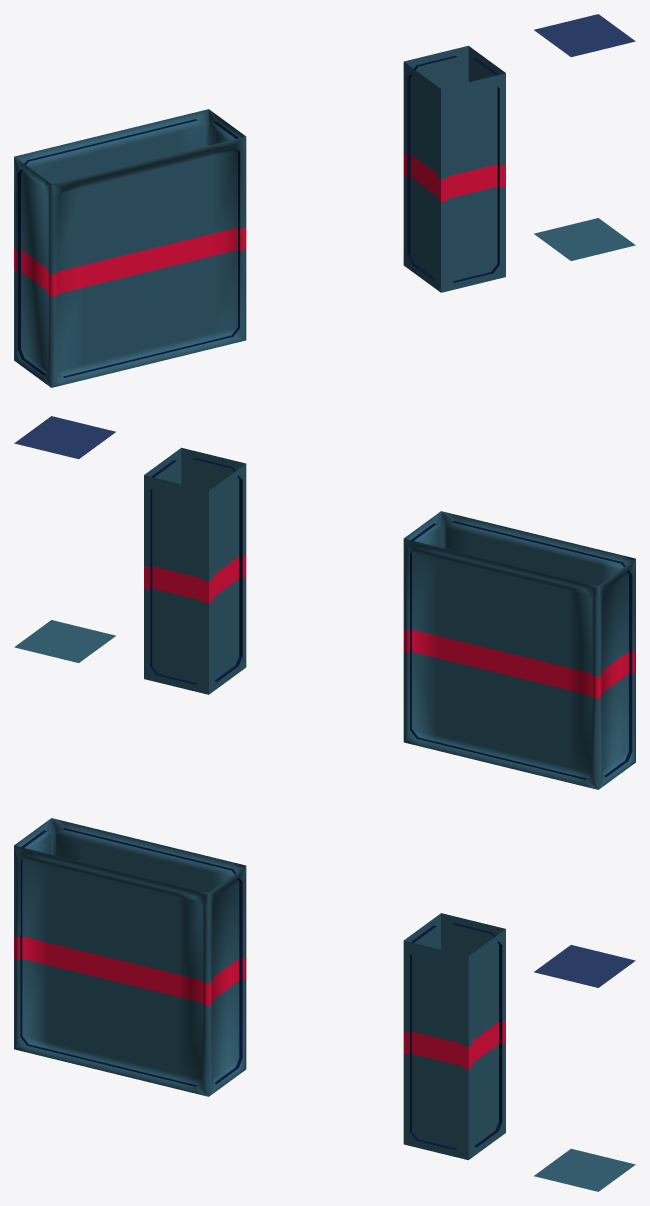
Rendered from level_1.glb.
3 views of the same model, one above another, from view 1: azimuth 30°, elevation 25°; view 2: azimuth 150°, elevation 25°; view 3: azimuth 330°, elevation 25° (orthographic).
Visible parts, largest first — view 1: Wall_3x1, Wall, Floor; view 2: Wall_3x1, Wall, Floor; view 3: Wall_3x1, Wall, Floor.
Part boxes in pixels (bbox=[...]): Wall_3x1: bbox=[14, 109, 246, 387]; Wall: bbox=[403, 45, 505, 292]; Floor: bbox=[534, 14, 635, 260]; Wall_3x1: bbox=[403, 511, 635, 789]; Wall: bbox=[144, 447, 246, 694]; Floor: bbox=[14, 416, 115, 662]; Wall_3x1: bbox=[14, 818, 246, 1096]; Wall: bbox=[403, 913, 505, 1160]; Floor: bbox=[534, 945, 635, 1191].
Size of what is drawn, in the model's own units: 9 by 3 by 1.
1 material, 1 textured.
